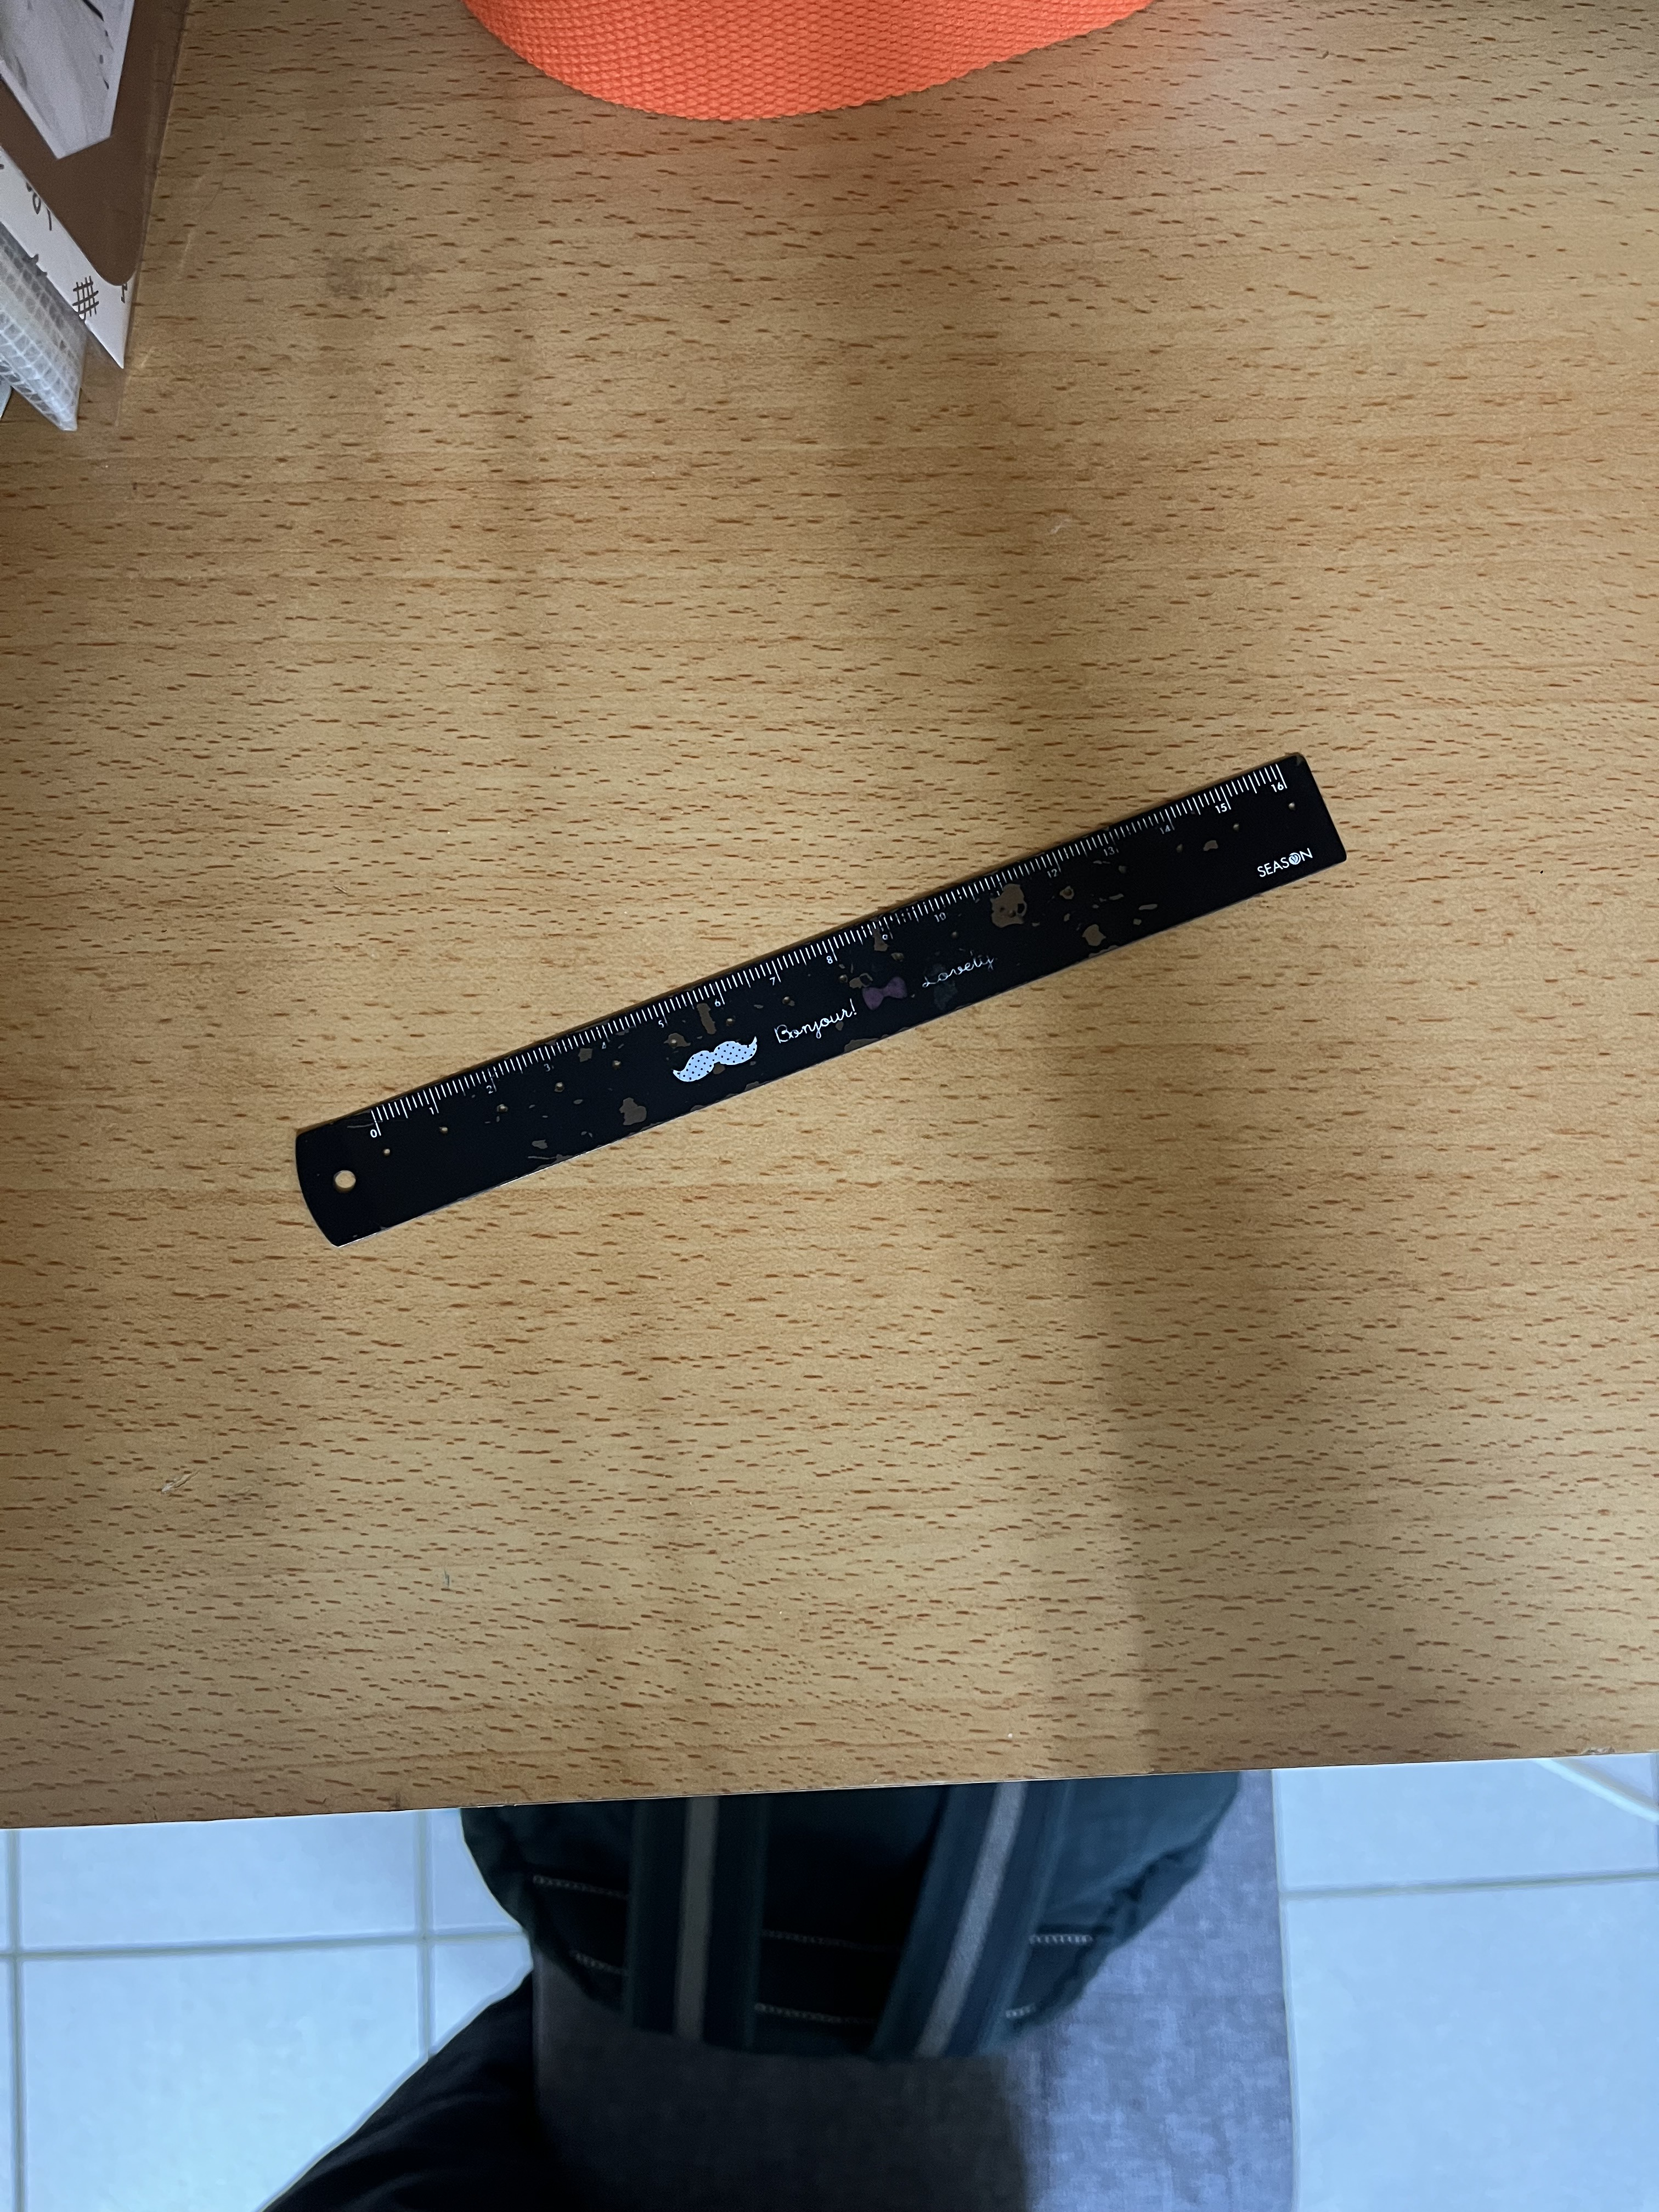ruler: (277, 716, 1371, 1289)
